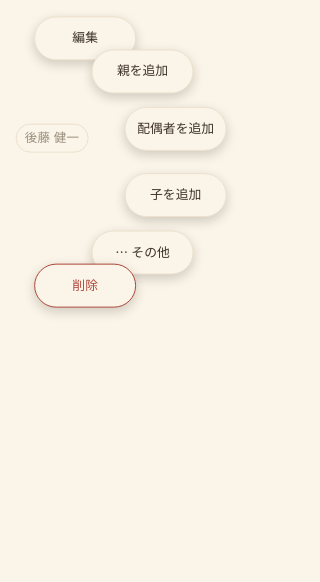
it: PersonMenu › 「その他」を開くと弧を畳んで、残りの操作に入れ替える
What coordinates should you click on to do the following:
click the menu item "⋯ その他"
I would click on:
 (142, 252)
Its box is x1=91 y1=230 x2=194 y2=274.
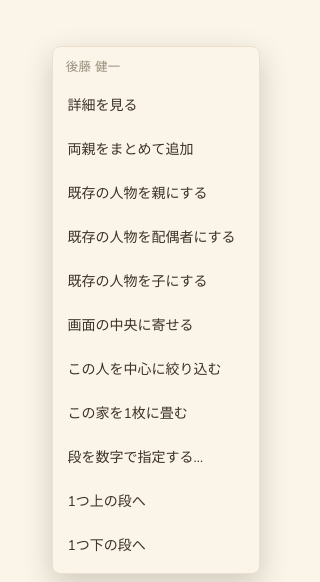
Check: the menu item "詳細を見る" is shown, box x1=58 y1=84 x2=254 y2=128
Check: the menu item "この人を中心に絞り込む" is shown, box x1=58 y1=348 x2=254 y2=392
Check: the menu item "編集" is gone
